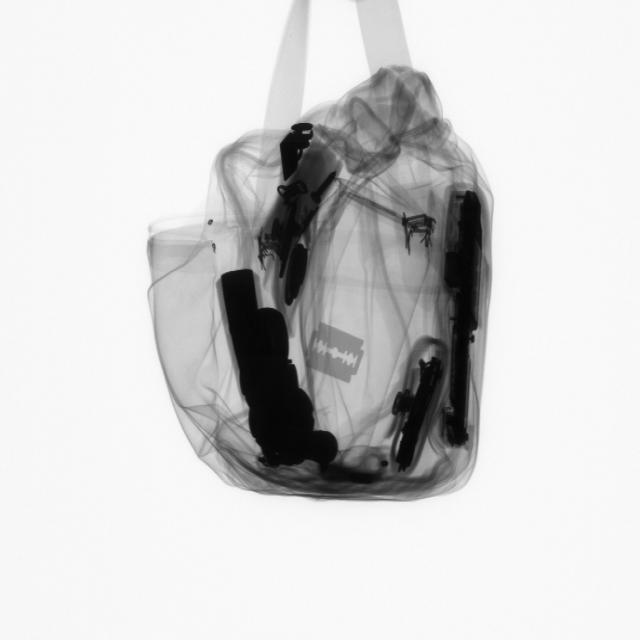BLADE: (301, 315, 371, 387)
GUN: (212, 267, 346, 479)
SCREW: (294, 170, 353, 206)
